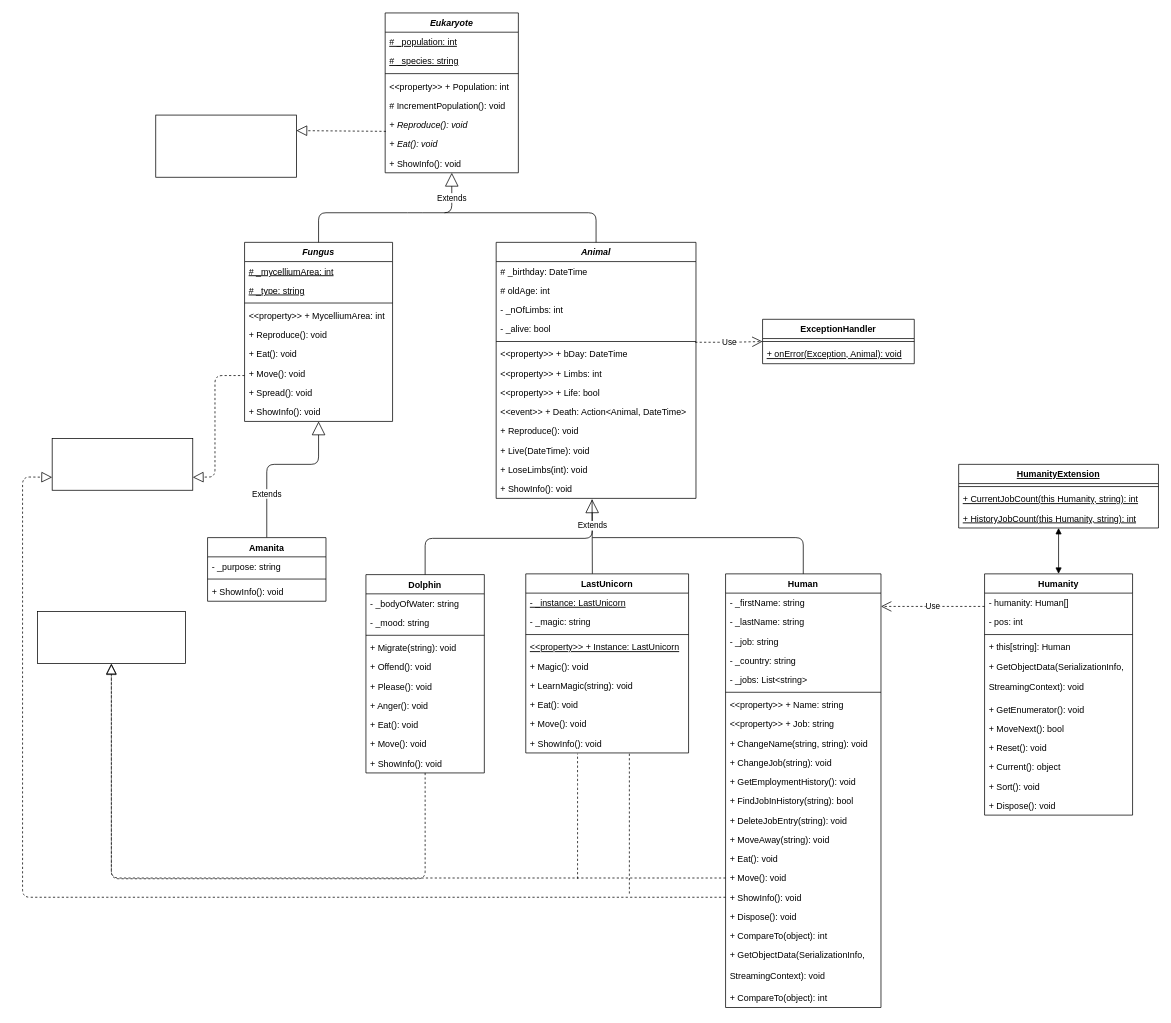
Image size: 1171x1023. Some labels were removed from this diagram. Each missing label, with the centre of its shape:
<<Interface>> IBasicNeeds + Reproduce(): void + Eat(): void: pixel 225 145
<<Interface>> IMovable + Move(): void: pixel 122 464
<<Interface>> ISwimmable + Move(): void: pixel 111 637
